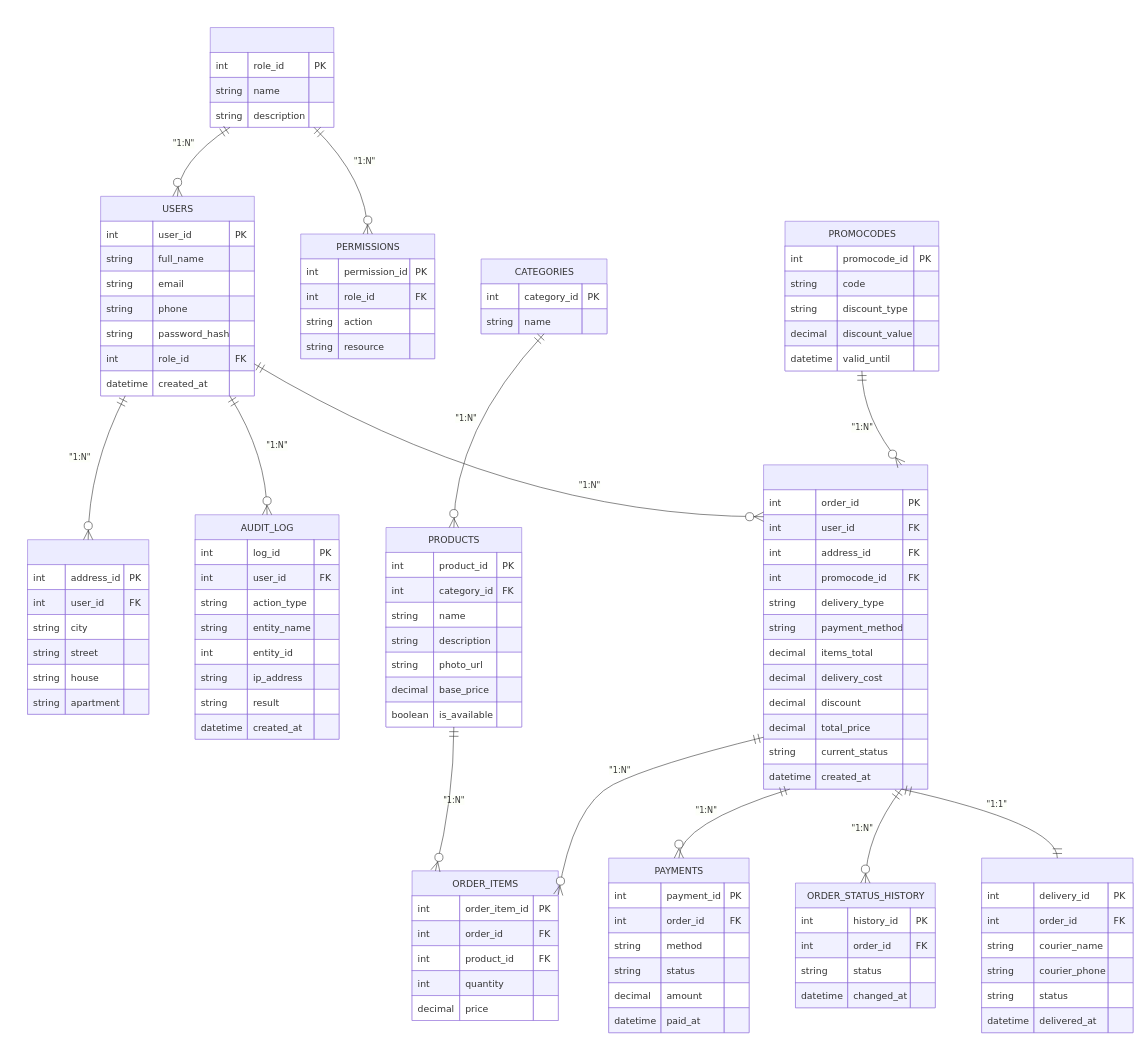
This 1143x1043 diagram has some shape labels left out. Each missing label, with the box of its shape:
ADDRESSES: (27, 539, 149, 714)
DELIVERIES: (981, 858, 1133, 1033)
ORDERS: (763, 464, 928, 789)
ROLES: (210, 27, 334, 127)
